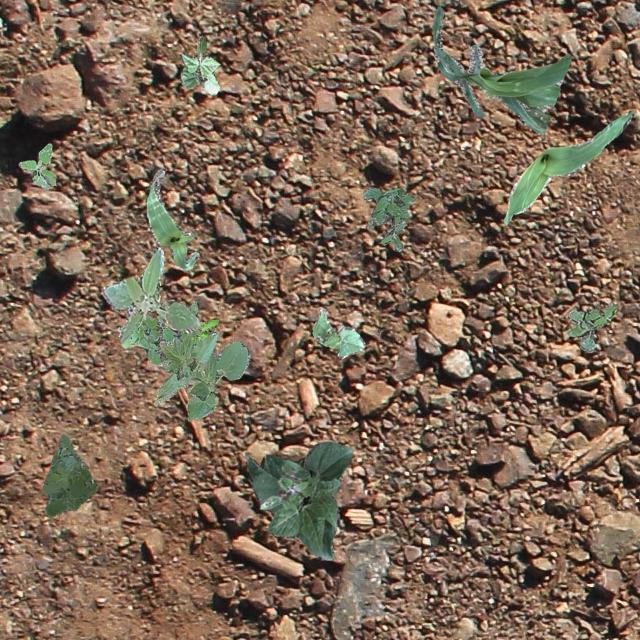crop: (430, 5, 570, 134), (502, 109, 634, 224), (244, 441, 350, 558), (153, 328, 250, 419), (146, 168, 198, 270), (312, 308, 364, 358), (180, 34, 218, 94)
weed: (100, 246, 198, 342), (116, 300, 200, 376), (40, 434, 96, 516), (362, 187, 414, 250), (564, 300, 616, 350), (258, 464, 312, 509), (18, 143, 54, 190), (190, 317, 218, 343)
